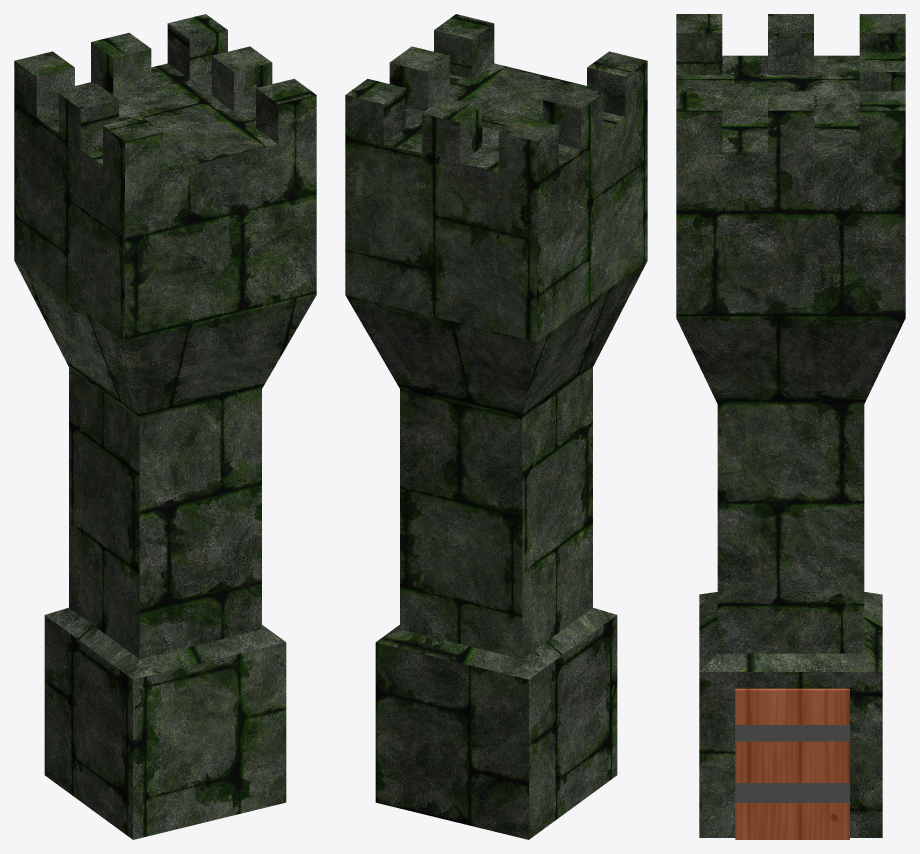
File: tower2.glb
The picture shows the model from 3 angles, left to right: view 1: azimuth 30°, elevation 25°; view 2: azimuth 150°, elevation 25°; view 3: azimuth 270°, elevation 25°; orthographic projection. The views are drawn at different scales.
Parts seen in each view (by area): view 1: tower; view 2: tower; view 3: tower.
Part boxes in pixels (box(x1,y1,x2,y2)): tower: box(14, 14, 316, 839); tower: box(345, 14, 647, 839); tower: box(676, 14, 905, 839).
Size of the model in its own units: 2.5 by 8.87 by 2.5.
3 materials, 2 textured.
